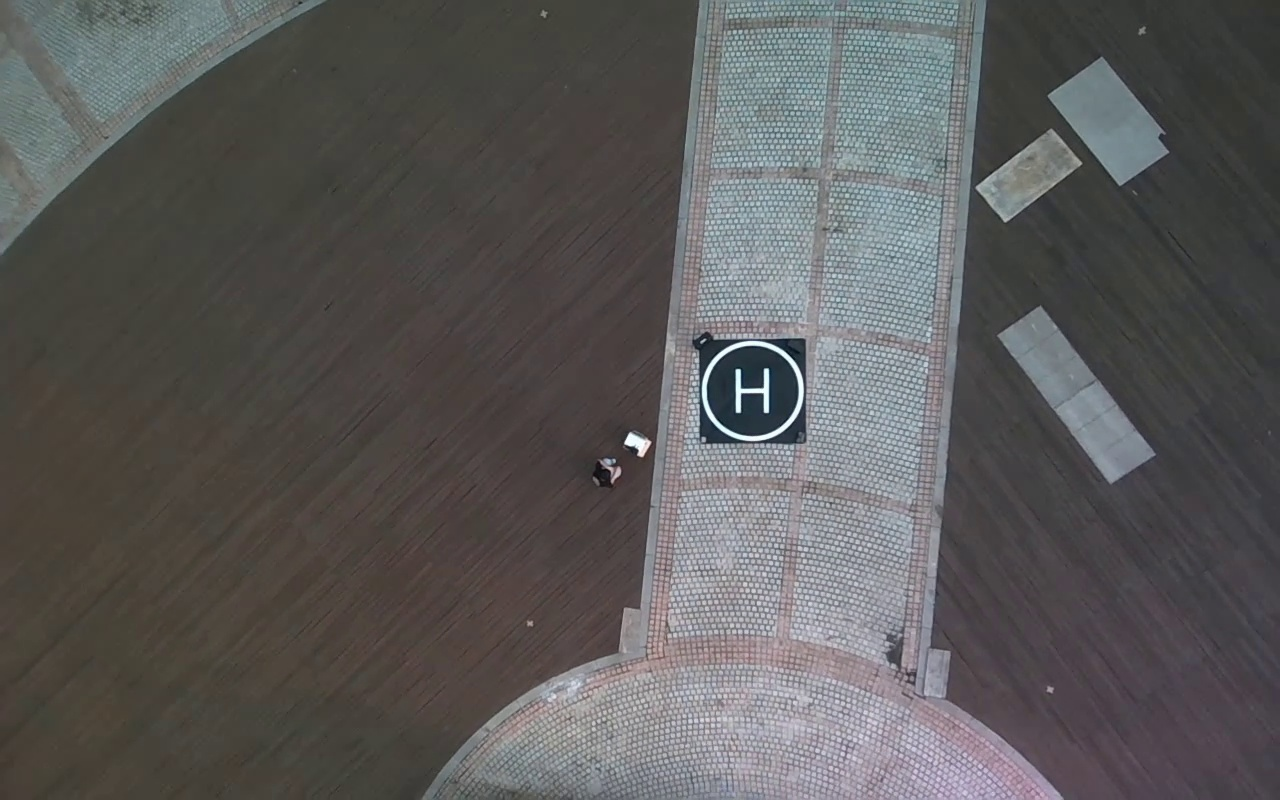H: (733, 367, 770, 413)
heliport: (701, 340, 805, 442)
